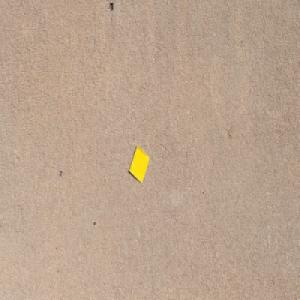PlasticPart: (128, 144, 149, 183)
